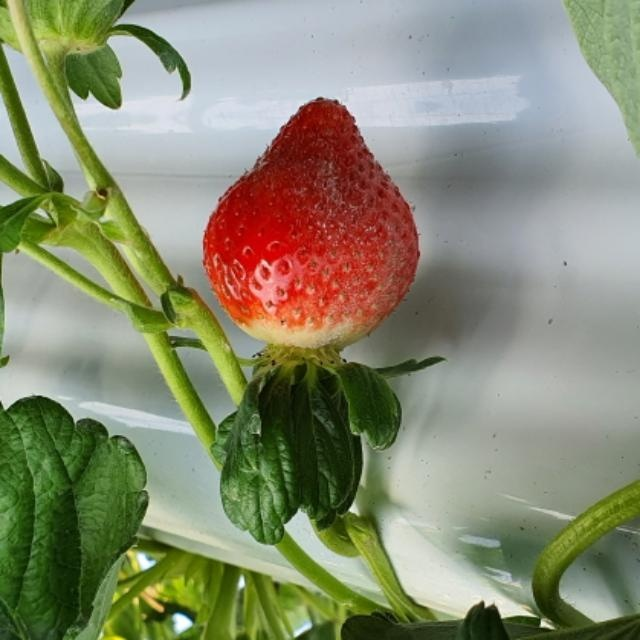Powdery Mildew Fruit: (292, 130, 423, 348)
